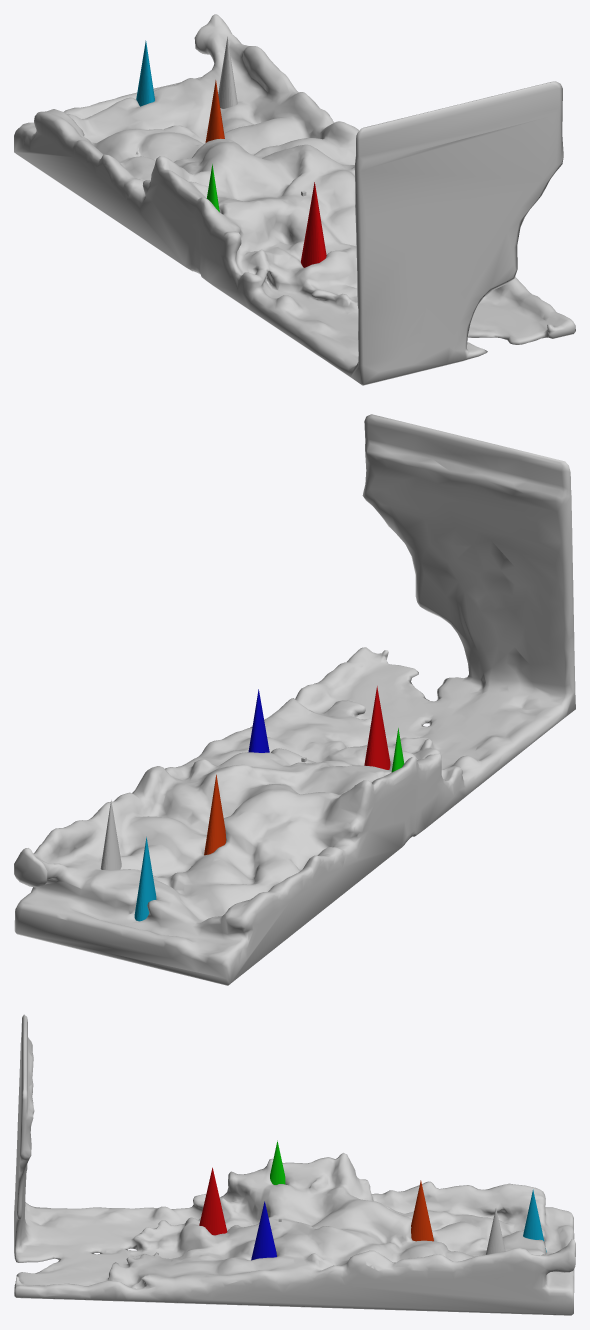
3 views of the same model, one above another, from view 1: azimuth 30°, elevation 25°; view 2: azimuth 150°, elevation 25°; view 3: azimuth 270°, elevation 25° (orthographic). The views are drawn at different scales.
Visible parts, largest first — view 1: Liquid_Domain, 円錐.001, 円錐, 円錐.005, 円錐.004; view 2: Liquid_Domain, 円錐.001, 円錐.005, 円錐.004, 円錐, 円錐.002; view 3: Liquid_Domain, 円錐.001, 円錐.004, 円錐.002, 円錐.005, 円錐, 円錐.003.
Boxes of the visible parts, x1,y1,x2,y2 form: Liquid_Domain: [14, 14, 575, 385]; 円錐.001: [301, 182, 326, 267]; 円錐: [218, 37, 237, 108]; 円錐.005: [136, 40, 154, 106]; 円錐.004: [205, 80, 224, 142]; Liquid_Domain: [14, 414, 575, 985]; 円錐.001: [364, 686, 390, 769]; 円錐.005: [134, 837, 156, 921]; 円錐.004: [204, 774, 226, 855]; 円錐: [100, 800, 121, 869]; 円錐.002: [248, 689, 269, 752]; Liquid_Domain: [14, 1014, 575, 1315]; 円錐.001: [199, 1167, 227, 1235]; 円錐.004: [411, 1180, 433, 1241]; 円錐.002: [251, 1201, 276, 1260]; 円錐.005: [523, 1189, 546, 1252]; 円錐: [486, 1208, 505, 1254]; 円錐.003: [270, 1140, 285, 1184].
Size of the model in its own units: 129 by 157 by 362.
